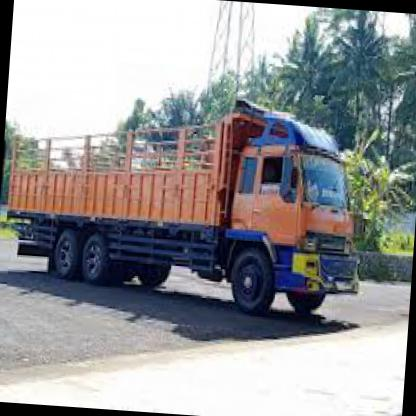truck: (223, 133, 366, 330)
